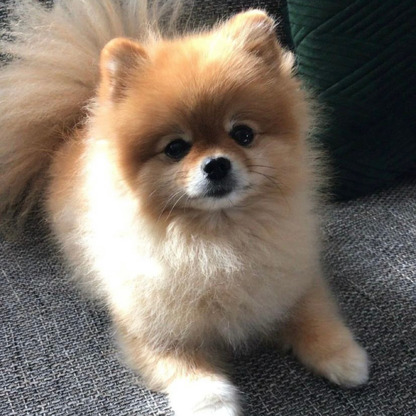Pomeranian: (39, 21, 384, 404)
